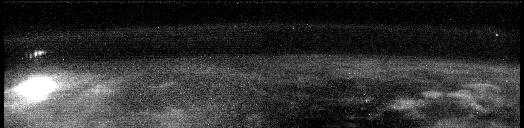positive: (26, 47, 48, 61)
